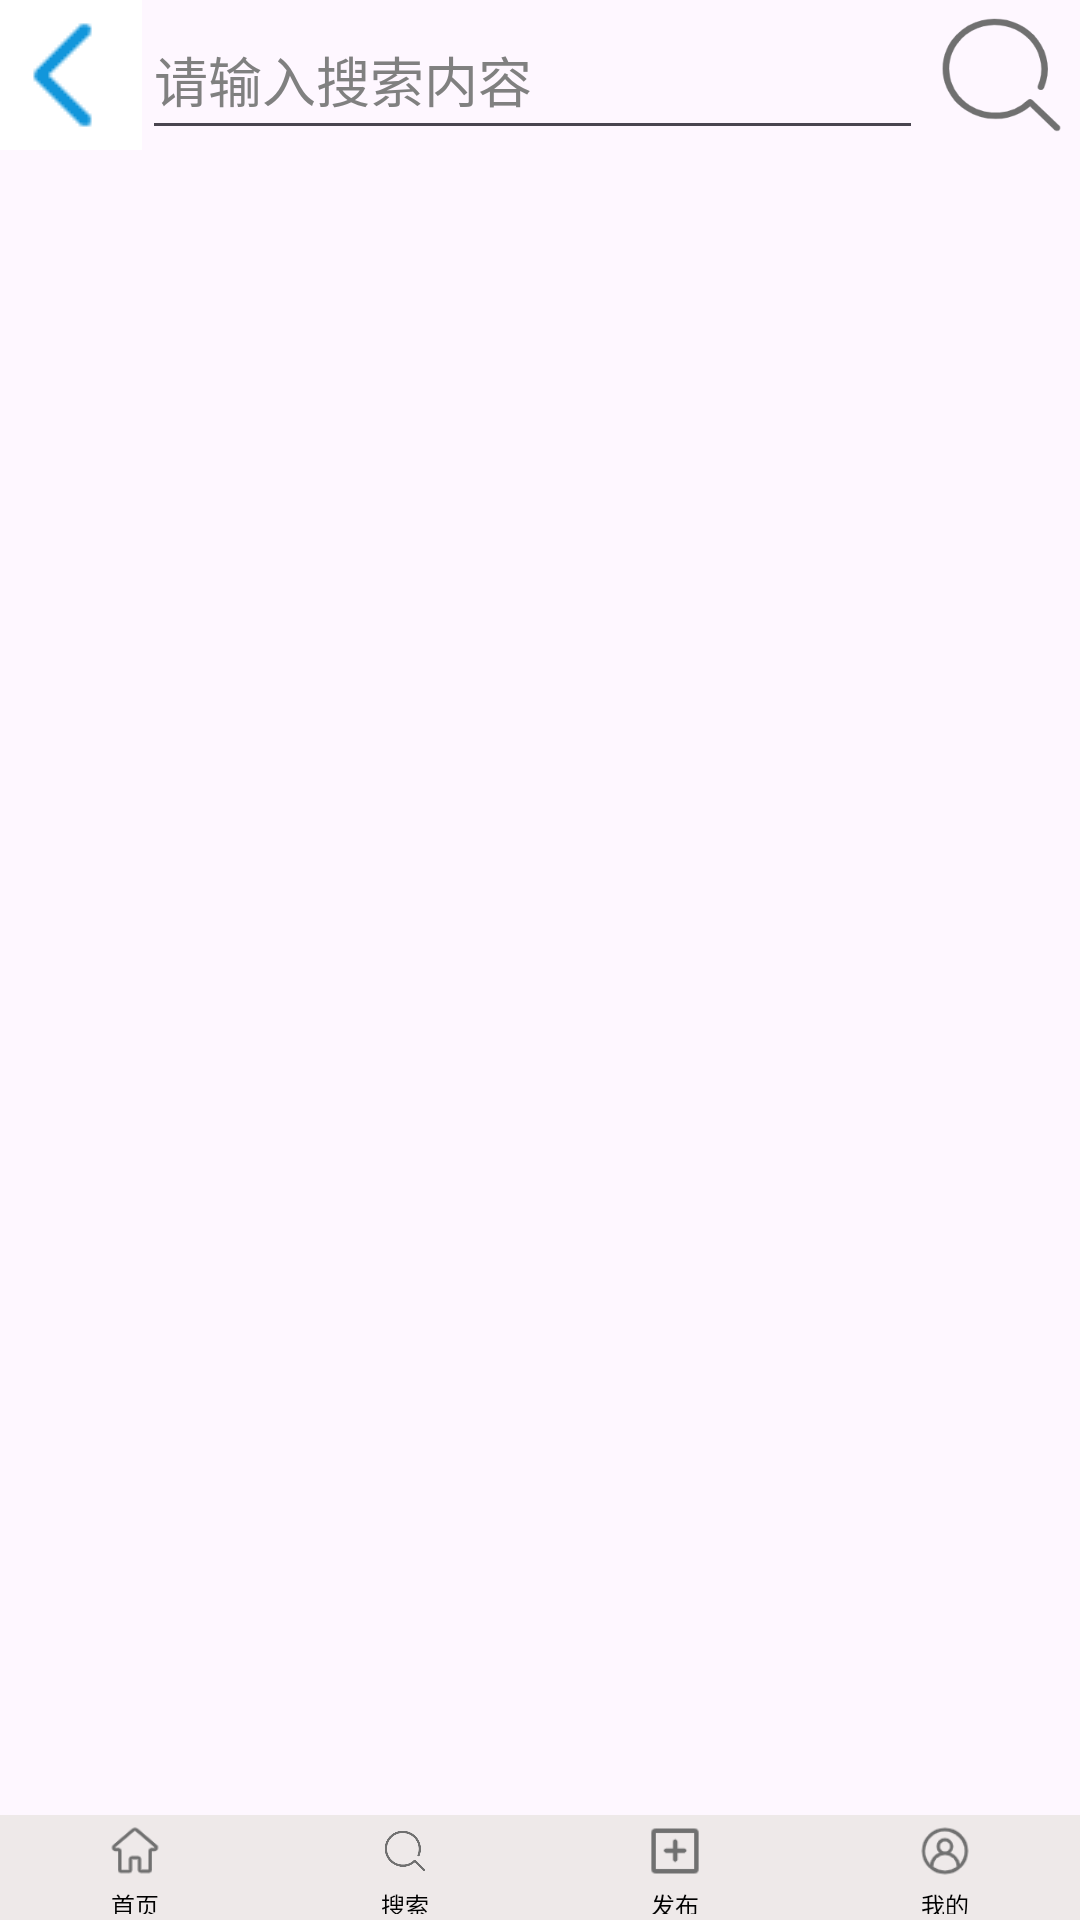

Icons on this 1080x1920 Android screen, each with its box as (x1, y1, x2, y2):
back: (33, 23, 92, 127)
